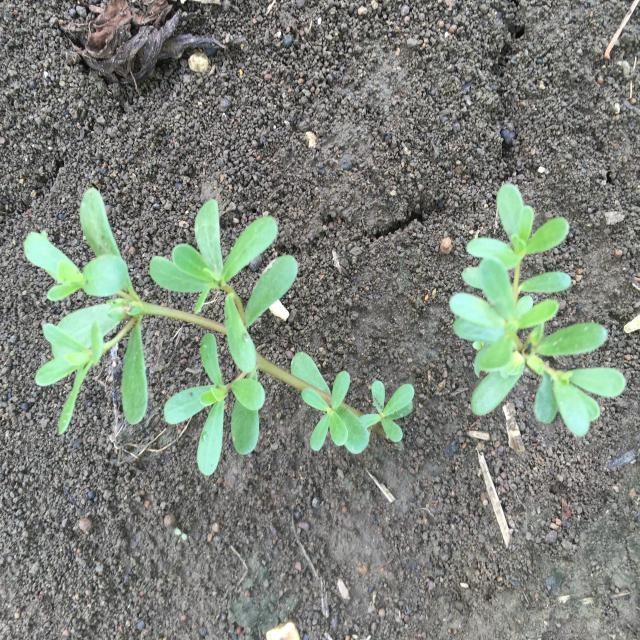Purslane: (24, 187, 415, 476), (449, 184, 626, 436)
